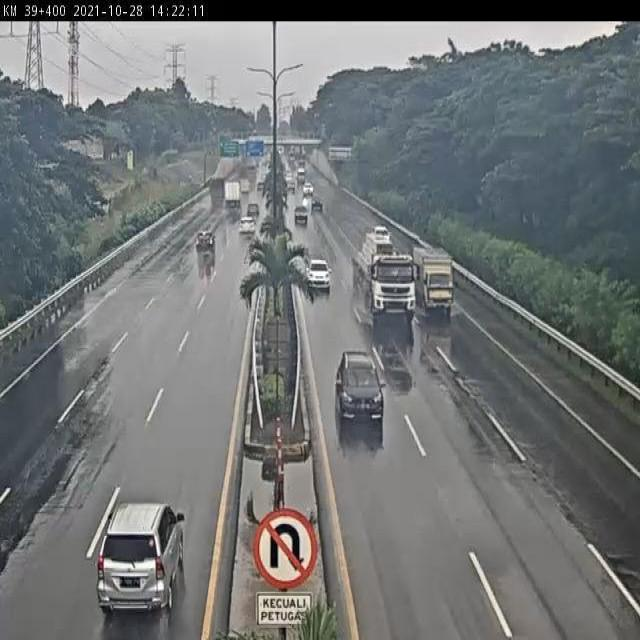car: (95, 503, 189, 624), (334, 350, 384, 426), (302, 255, 330, 293), (194, 229, 216, 259)
truck-s-: (416, 242, 458, 322)
truck-xl-: (349, 226, 419, 322)
